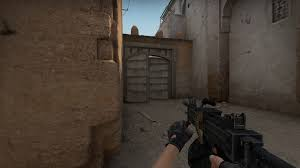gun: (180, 93, 296, 167)
